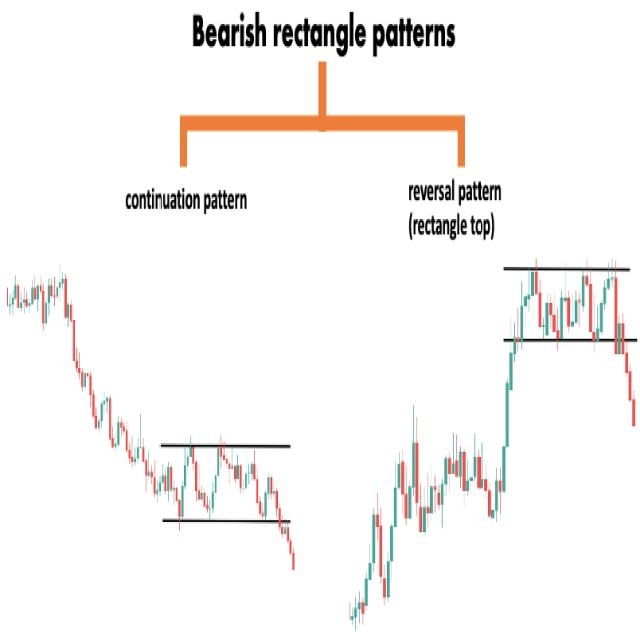rectangle: (161, 449, 290, 521), (506, 268, 631, 339)
